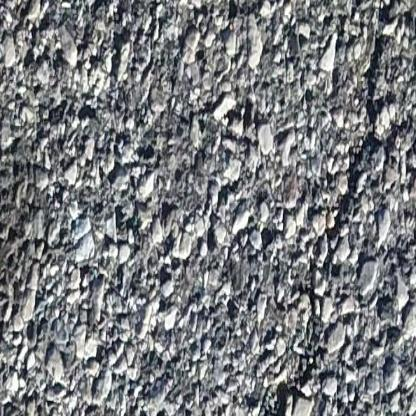Cracks: (243, 0, 416, 416)
